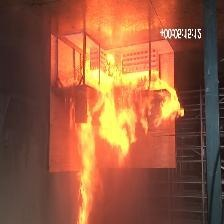fire: (31, 35, 205, 223)
